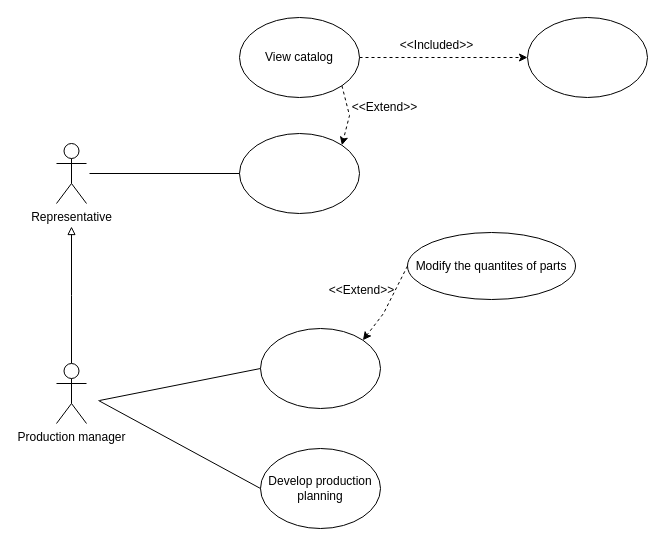
Some shapes in this 665 by 546 pixel diagram are drawn without their labels. Each missing label, with the centre of its shape:
"Customer registration" goes at (587,57).
"Manage inventory" goes at (320,368).
"Order bike" goes at (299,173).
